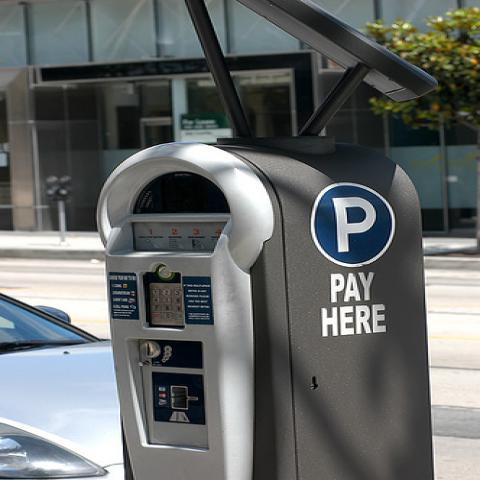car: (0, 293, 122, 473)
